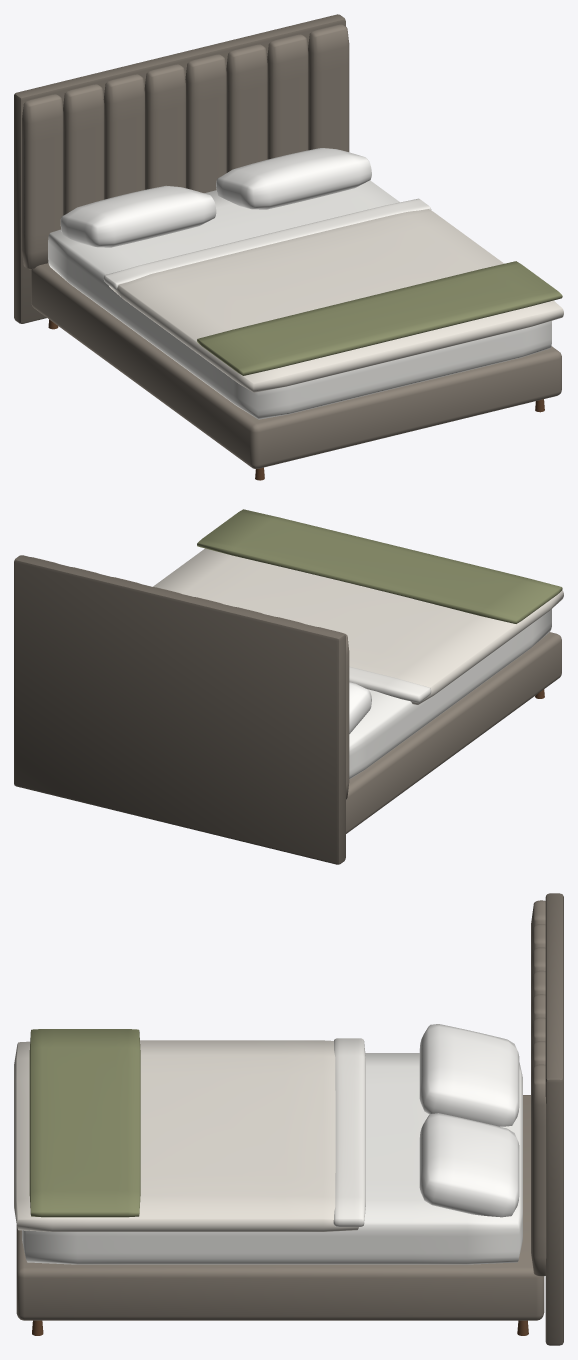
Rendered from bed_2.glb.
3 views of the same model, one above another, from view 1: azimuth 30°, elevation 25°; view 2: azimuth 150°, elevation 25°; view 3: azimuth 270°, elevation 25° (orthographic). The views are drawn at different scales.
Parts seen in each view (by area): view 1: soft.001, box, soft, soft.003, box.001, soft.004, soft.005, soft.006, soft.010, soft.013, soft.007, soft.011 (+4 smaller); view 2: box.001, soft.001, soft.003, box, soft, soft.002, soft.004, soft.006; view 3: soft.001, box, soft, soft.003, soft.005, soft.004, box.001, soft.002, soft.013.
Part boxes in pixels (bbox=[...]): soft.001: bbox=[108, 209, 563, 392]; box: bbox=[31, 263, 561, 468]; soft: bbox=[48, 180, 551, 419]; soft.003: bbox=[197, 261, 562, 375]; box.001: bbox=[14, 14, 345, 323]; soft.004: bbox=[60, 185, 216, 247]; soft.005: bbox=[216, 148, 371, 209]; soft.006: bbox=[22, 94, 63, 269]; soft.010: bbox=[185, 54, 226, 192]; soft.013: bbox=[308, 24, 349, 151]; soft.007: bbox=[63, 84, 104, 215]; soft.011: bbox=[226, 44, 267, 172]; box.001: bbox=[14, 555, 345, 864]; soft.001: bbox=[153, 548, 563, 704]; soft.003: bbox=[197, 509, 562, 623]; box: bbox=[346, 632, 561, 833]; soft: bbox=[349, 609, 551, 779]; soft.002: bbox=[349, 666, 431, 702]; soft.004: bbox=[349, 682, 371, 733]; soft.006: bbox=[318, 627, 349, 799]; soft.001: bbox=[14, 1040, 358, 1231]; box: bbox=[16, 1095, 544, 1320]; soft: bbox=[22, 1053, 522, 1264]; soft.003: bbox=[29, 1029, 140, 1217]; soft.005: bbox=[419, 1113, 519, 1217]; soft.004: bbox=[419, 1024, 519, 1126]; box.001: bbox=[545, 893, 563, 1345]; soft.002: bbox=[333, 1038, 365, 1226]; soft.013: bbox=[531, 1064, 546, 1276].
Bounding box in the file's own units: 168 × 112 × 208.
